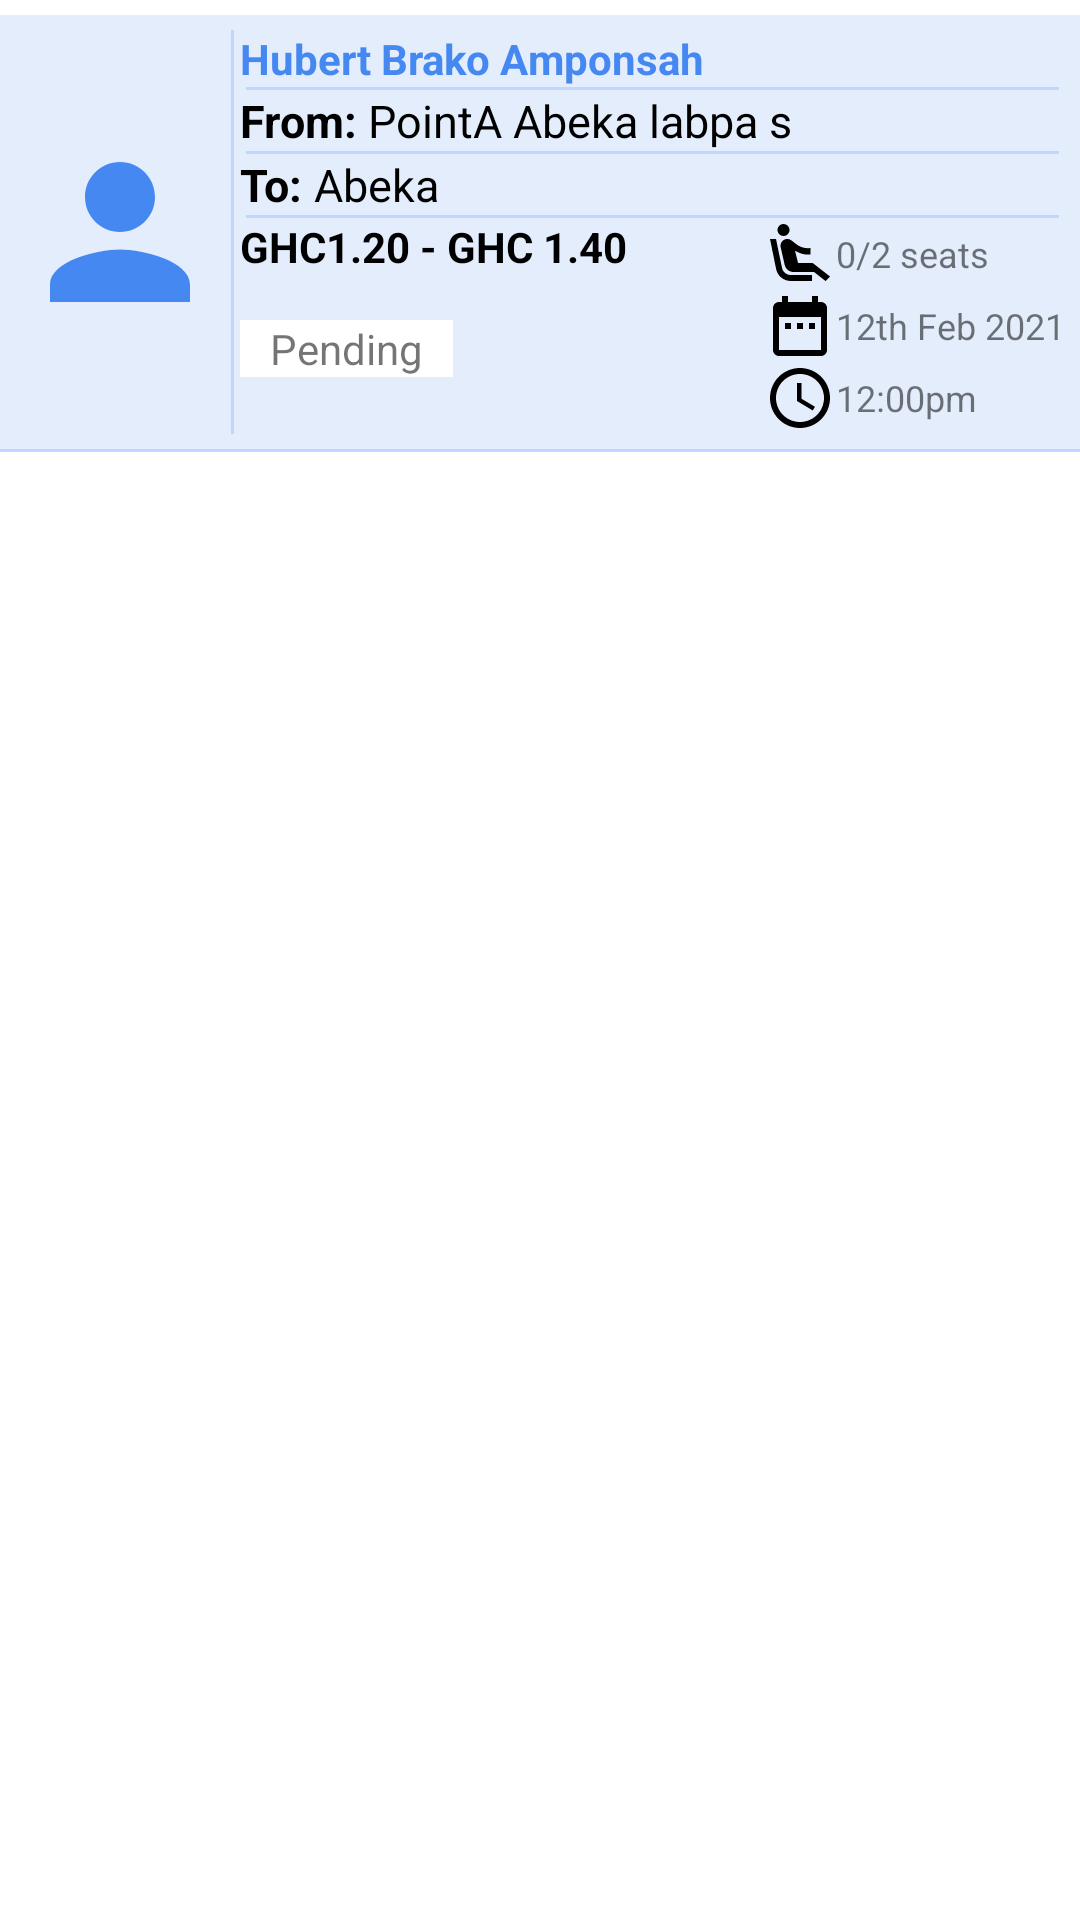

Where icons sit on this 1080x1920 app screen, as bbox=(x1, y1, x2, y2):
person: bbox=(50, 162, 190, 302)
